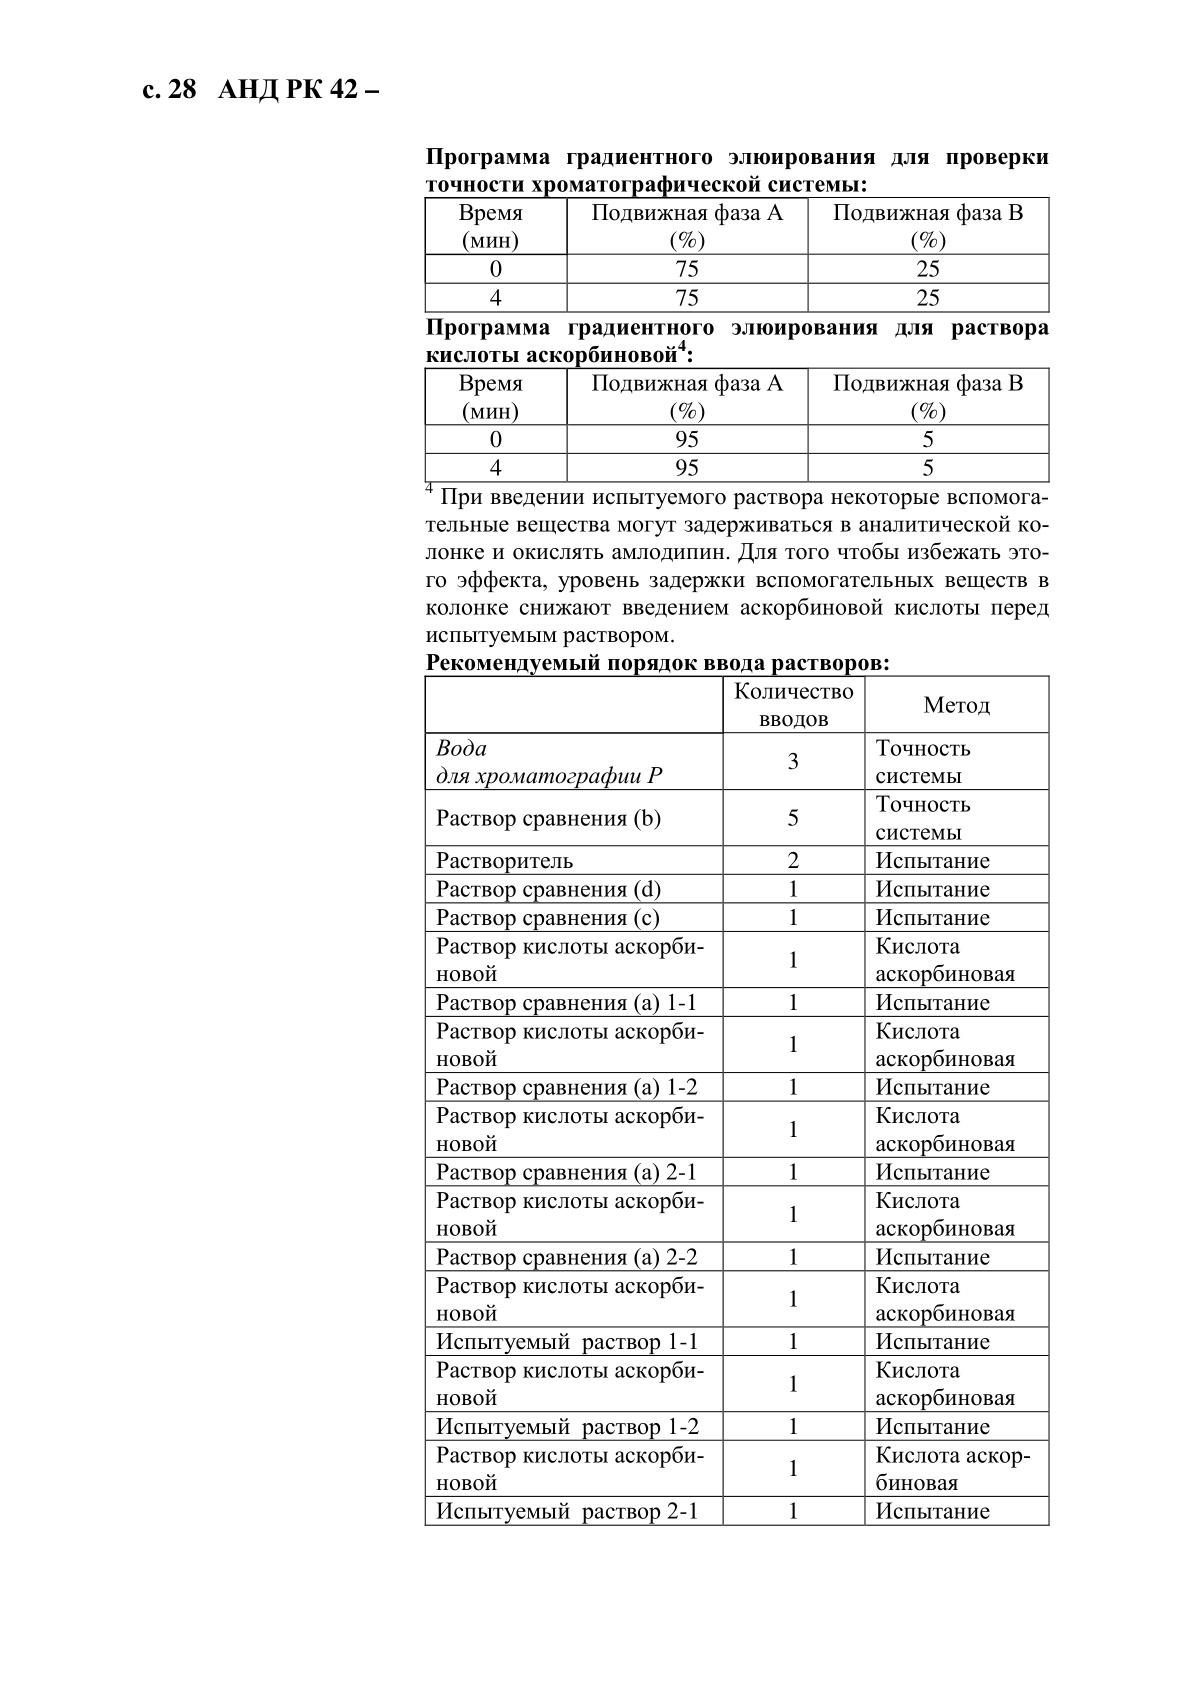full_lined: (425, 673, 1051, 1527), (424, 195, 1051, 313), (424, 366, 1051, 483)
